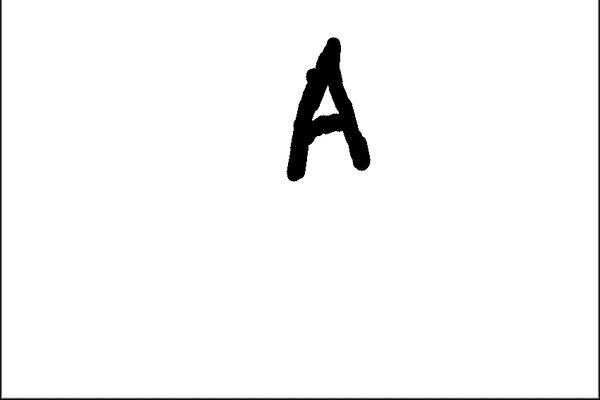A: (270, 24, 377, 186)
